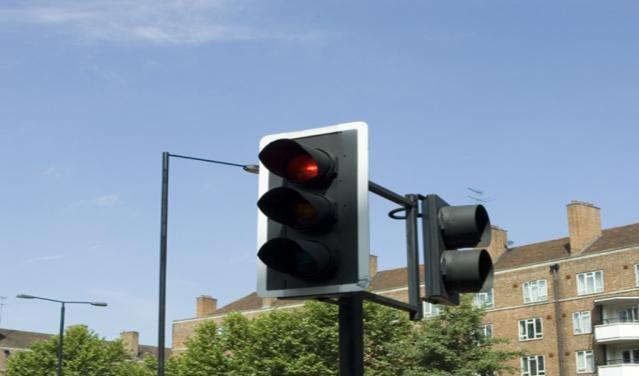red_light: (256, 122, 371, 297)
